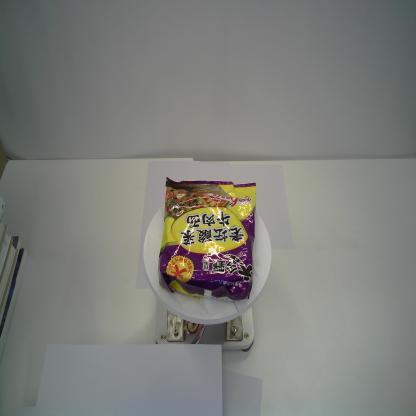Instant Noodles: (157, 175, 257, 302)
